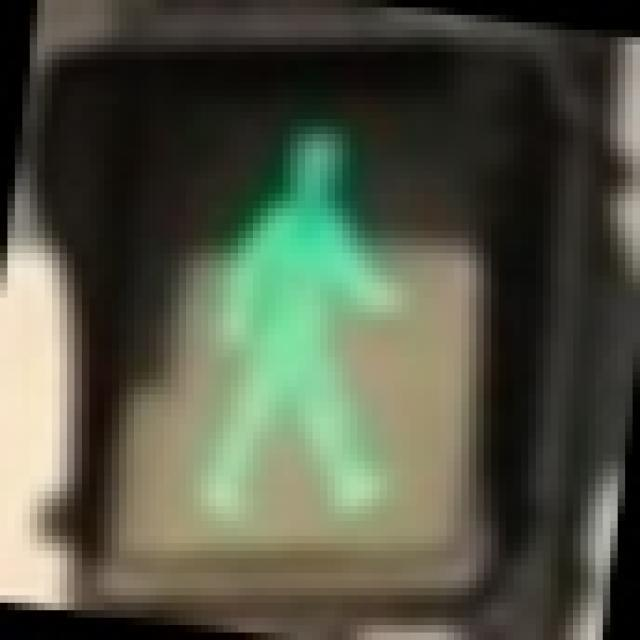geen-crossing: (149, 81, 469, 544)
